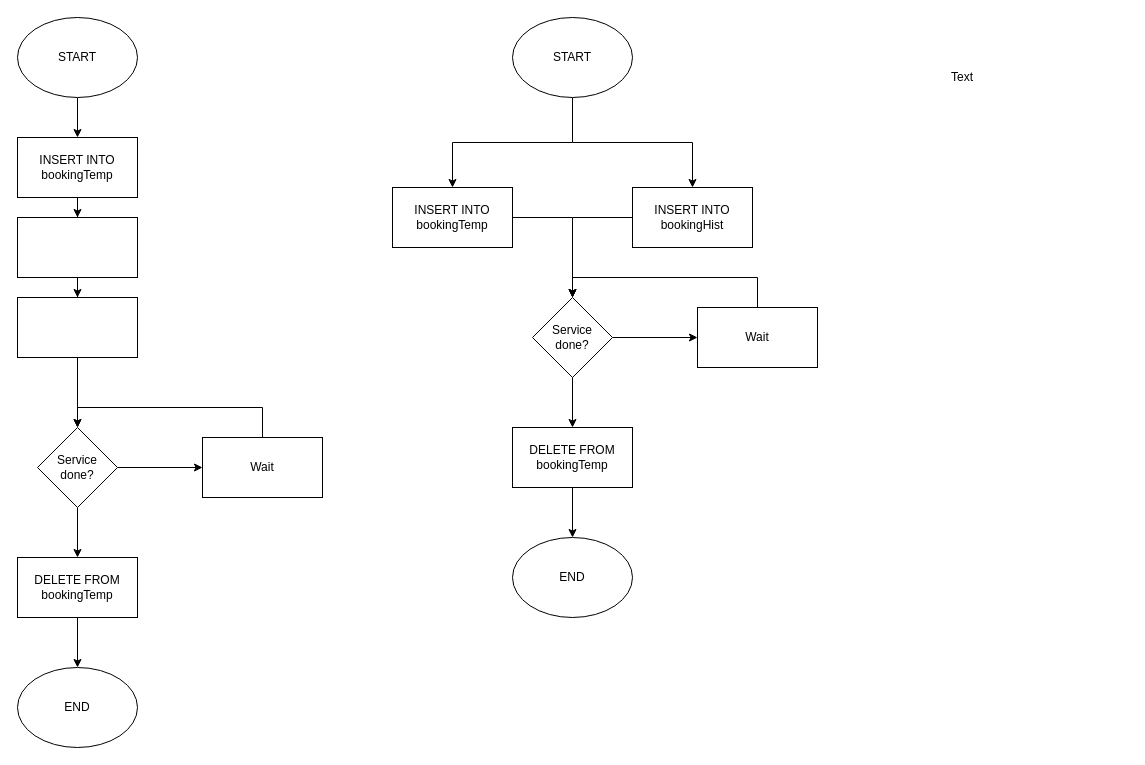
Image size: 1145x765. Some labels were removed from this diagram. The centre of each missing label's shape, as x and y in pixels:
INSERT INTO bookingHist SELECT FROM bookingTemp: (77,327)
TRIGGER: (77,247)
